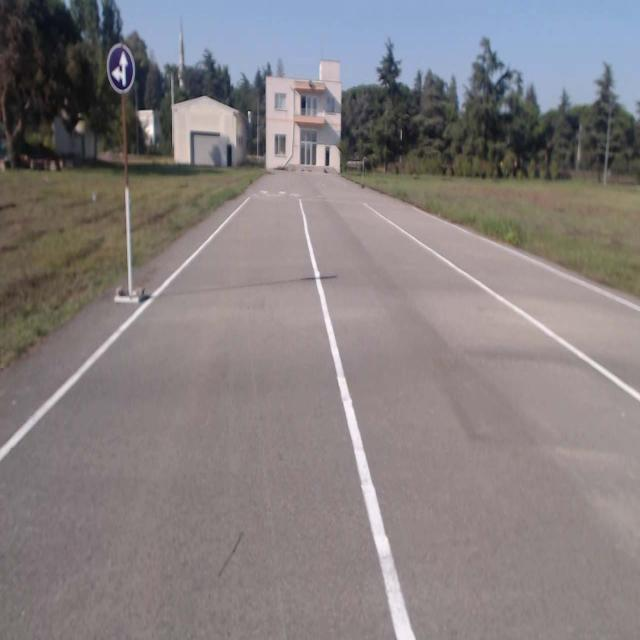ilerisol: (106, 44, 136, 92)
